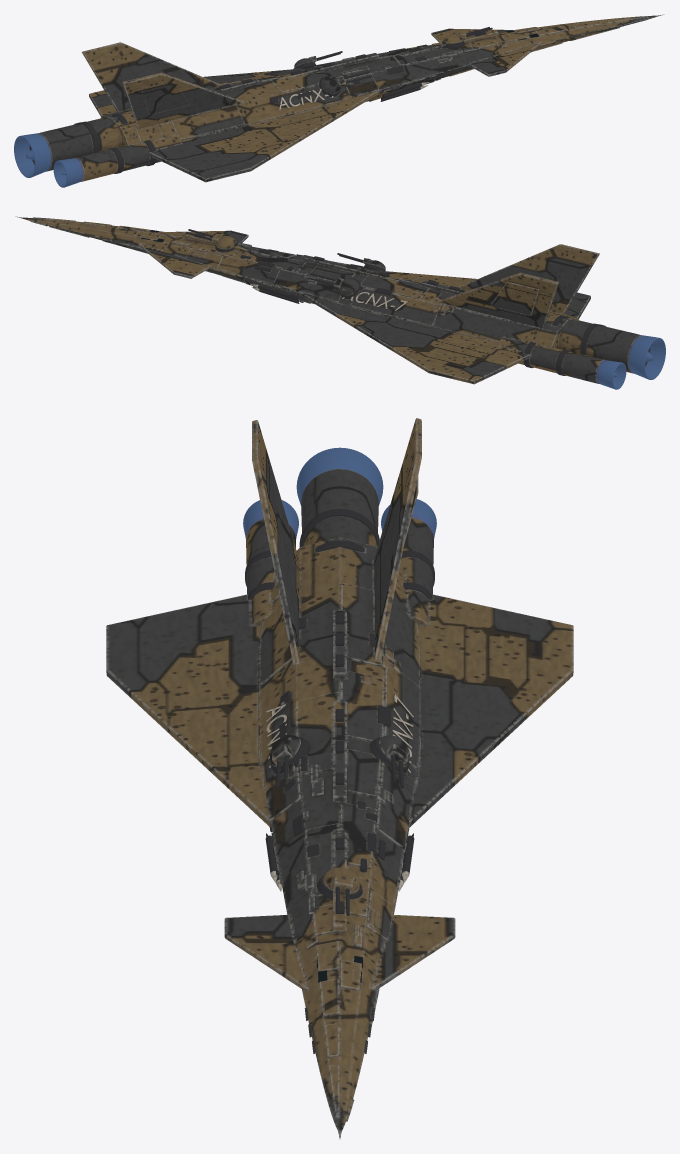
Rendered from acnx7_cheetah.glb.
The picture shows the model from 3 angles, top to bottom: view 1: azimuth 30°, elevation 25°; view 2: azimuth 150°, elevation 25°; view 3: azimuth 270°, elevation 25°; orthographic projection. The views are drawn at different scales.
Parts seen in each view (by area): view 1: static, turretB2, turretA1, missileR0, turretB1; view 2: static, brakeL, turretB1, turretA1, missileL0, turretB2, doorL0; view 3: static, turretA1, turretB1, turretB2.
Boxes of the visible parts, box(x1,y1,x2,y2) form: static: box(14, 14, 664, 187); turretB2: box(319, 71, 371, 96); turretA1: box(443, 27, 492, 48); missileR0: box(380, 82, 429, 101); turretB1: box(294, 51, 342, 68); static: box(15, 216, 665, 389); brakeL: box(490, 281, 539, 315); turretB1: box(308, 273, 360, 298); turretA1: box(186, 229, 237, 252); missileL0: box(250, 284, 299, 303); turretB2: box(337, 253, 385, 270); doorL0: box(243, 277, 310, 303); static: box(106, 418, 573, 1138); turretA1: box(317, 867, 362, 915); turretB1: box(370, 735, 410, 788); turretB2: box(269, 735, 309, 788).
Bounding box in the file's own units: 59.1 × 8.27 × 18.65.
1 material, 1 textured.
